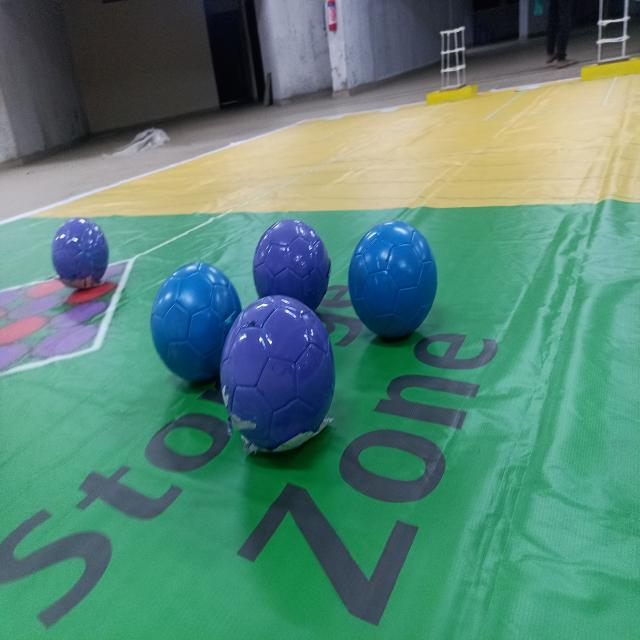blue_ball: (345, 215, 439, 347), (148, 253, 236, 386)
purple_ball: (218, 299, 338, 465), (243, 201, 332, 306), (54, 214, 109, 300)
